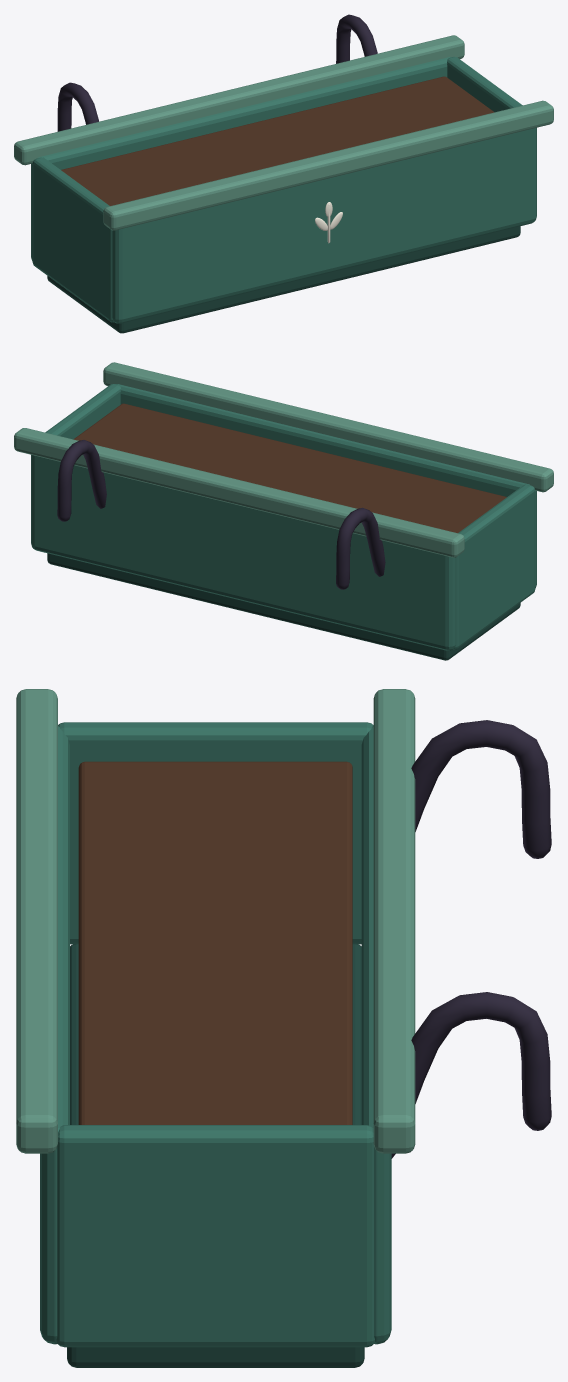
File: rail_planter.glb
The picture shows the model from 3 angles, top to bottom: view 1: azimuth 30°, elevation 25°; view 2: azimuth 150°, elevation 25°; view 3: azimuth 270°, elevation 25°; orthographic projection. The views are drawn at different scales.
Parts seen in each view (by area): view 1: Moulded_side.001, Soil, Top_lip.001, Top_lip, End, Moulded_side, Bottom, End.001, Rear_bracket, Rear_bracket.001; view 2: Moulded_side, Soil, Top_lip, Top_lip.001, End, Moulded_side.001, Bottom, Rear_bracket.001, Rear_bracket, End.001; view 3: Soil, End.001, Top_lip, Top_lip.001, End, Bottom, Moulded_side, Moulded_side.001, Rear_bracket.001, Rear_bracket.
Boxes of the visible parts, x1,y1,x2,y2 form: Moulded_side.001: (112, 127, 536, 323); Soil: (61, 76, 494, 205); Top_lip.001: (103, 100, 553, 230); Top_lip: (14, 35, 464, 165); End: (32, 157, 114, 322); Moulded_side: (31, 57, 451, 261); Bottom: (47, 226, 520, 333); End.001: (447, 57, 522, 112); Rear_bracket: (57, 82, 98, 131); Rear_bracket.001: (336, 14, 377, 63); Moulded_side: (31, 455, 455, 650); Soil: (73, 403, 506, 533); Top_lip: (14, 428, 464, 557); Top_lip.001: (103, 362, 553, 492); End: (453, 484, 535, 649); Moulded_side.001: (116, 384, 536, 588); Bottom: (47, 553, 520, 660); Rear_bracket.001: (57, 440, 106, 521); Rear_bracket: (336, 507, 385, 589); End.001: (45, 384, 120, 439); Soil: (78, 761, 352, 1124); End.001: (56, 1125, 374, 1347); Top_lip: (373, 689, 415, 1153); Top_lip.001: (16, 689, 57, 1153); End: (58, 722, 373, 944); Bottom: (67, 943, 364, 1367); Moulded_side: (361, 726, 391, 1344); Moulded_side.001: (40, 726, 69, 1344); Rear_bracket.001: (391, 992, 551, 1158); Rear_bracket: (411, 720, 551, 858).
Bounding box in the file's own units: 0.86 × 0.2946 × 0.4495.
